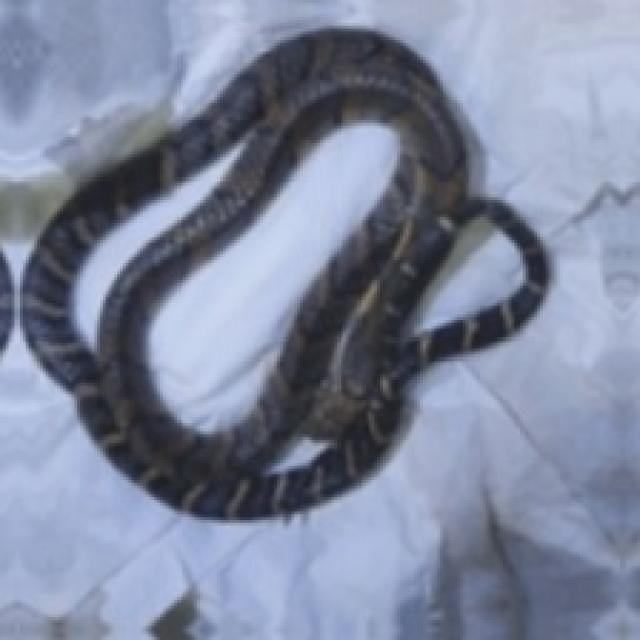king cobra: (20, 29, 546, 517)
